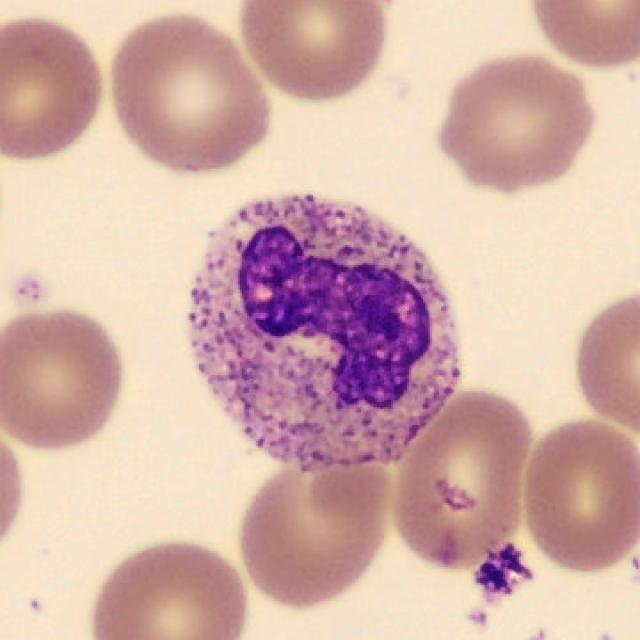Neutrofilo segmentado: (188, 194, 460, 473)
